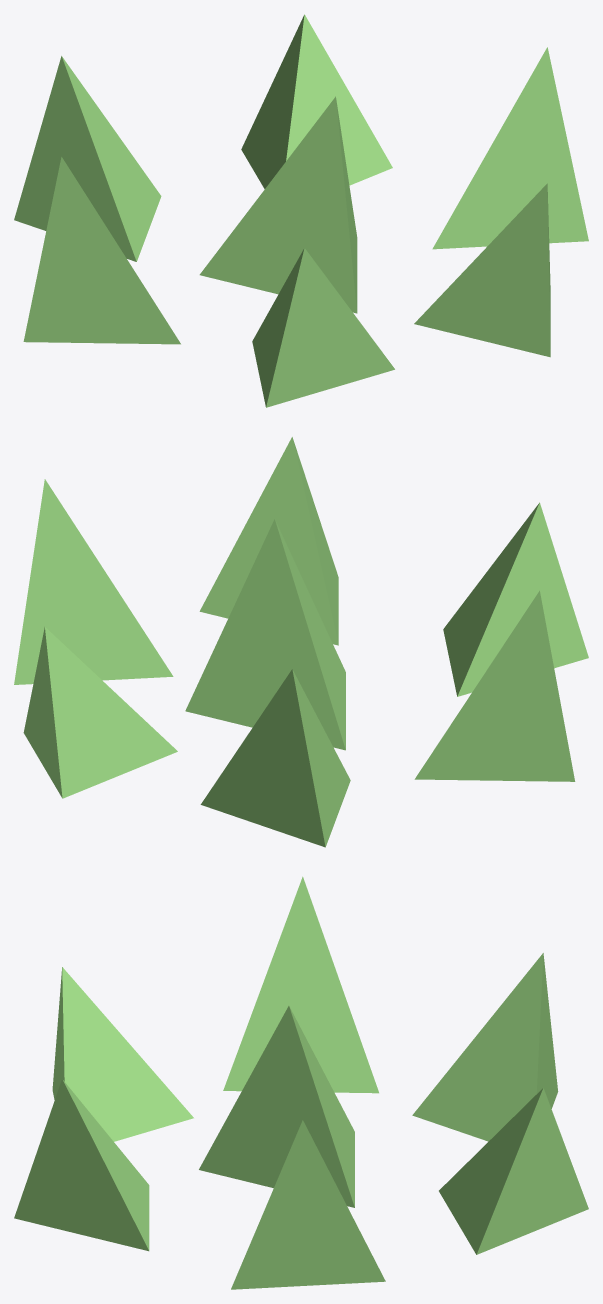
Rendered from lawn.glb.
3 renders of one model, top to bottom at view 1: azimuth 30°, elevation 25°; view 2: azimuth 150°, elevation 25°; view 3: azimuth 270°, elevation 25°, orthographic. The views are drawn at different scales.
Parts seen in each view (by area): view 1: crop; view 2: crop; view 3: crop.
Part boxes in pixels (box(x1,y1,x2,y2)): crop: box(14, 14, 588, 407); crop: box(14, 437, 588, 847); crop: box(14, 876, 588, 1289).
Size of the model in its own units: 0.4341 by 0.14 by 0.4139.
